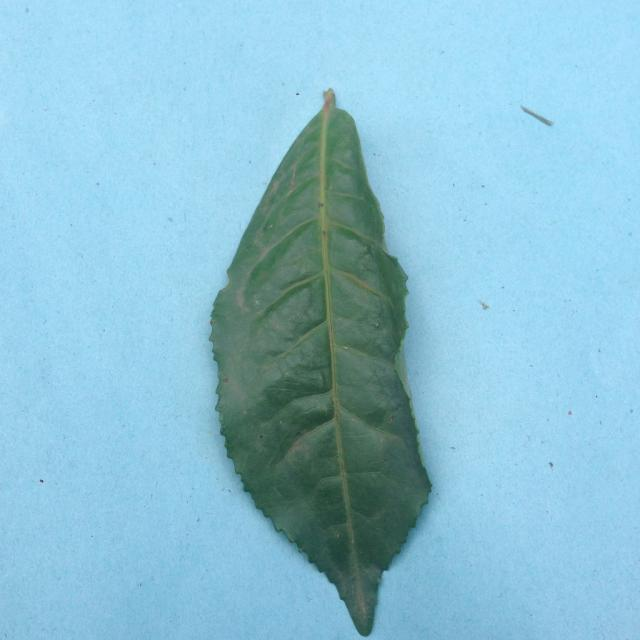Healthy: (197, 69, 462, 640)
